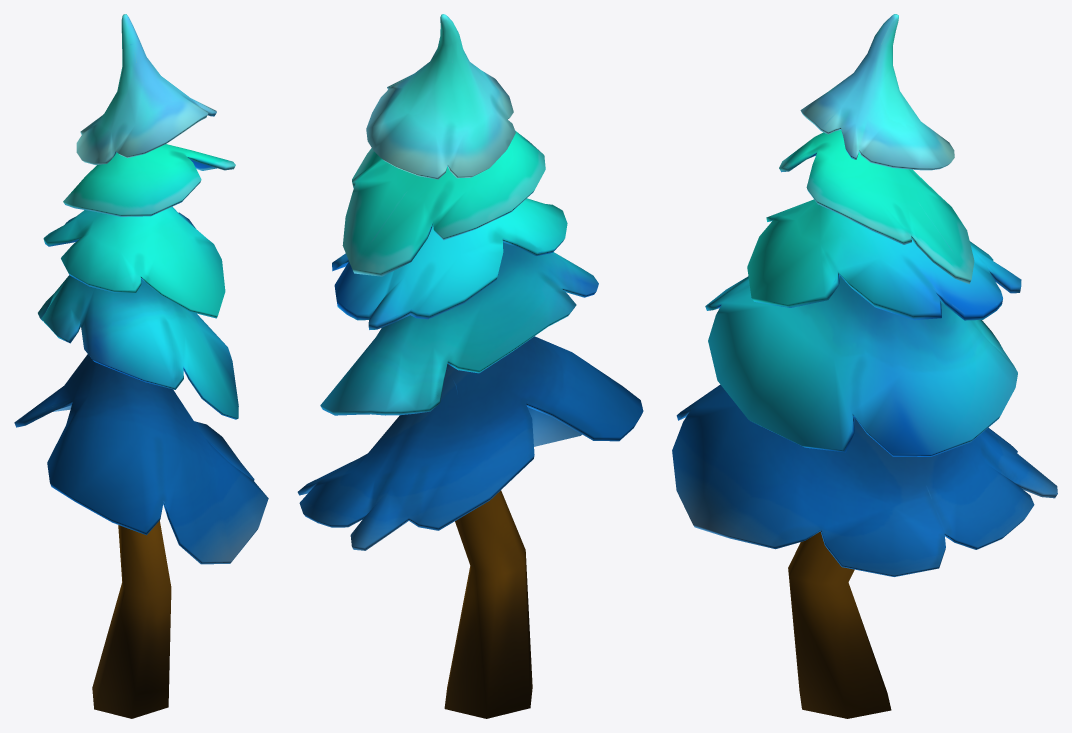
Rendered from TreeStyle2Blue_06.fbx.
3 renders of one model, left to right at view 1: azimuth 30°, elevation 25°; view 2: azimuth 150°, elevation 25°; view 3: azimuth 270°, elevation 25°, orthographic. The views are drawn at different scales.
Parts seen in each view (by area): view 1: TreeStyle2_06; view 2: TreeStyle2_06; view 3: TreeStyle2_06.
Part boxes in pixels (left/top/right/bottom): TreeStyle2_06: left=14, top=14, right=268, bottom=718; TreeStyle2_06: left=297, top=14, right=643, bottom=718; TreeStyle2_06: left=672, top=14, right=1057, bottom=718.
Bounding box in the file's own units: 587 × 1550 × 776.
